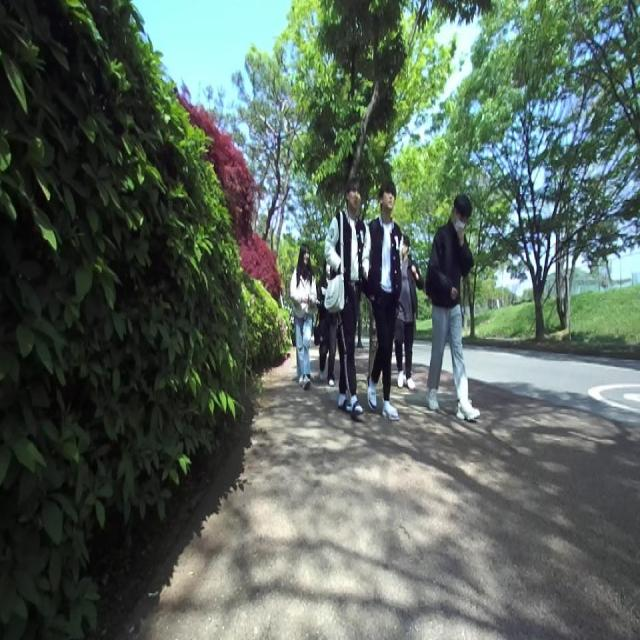sidewalk: (112, 361, 640, 640)
